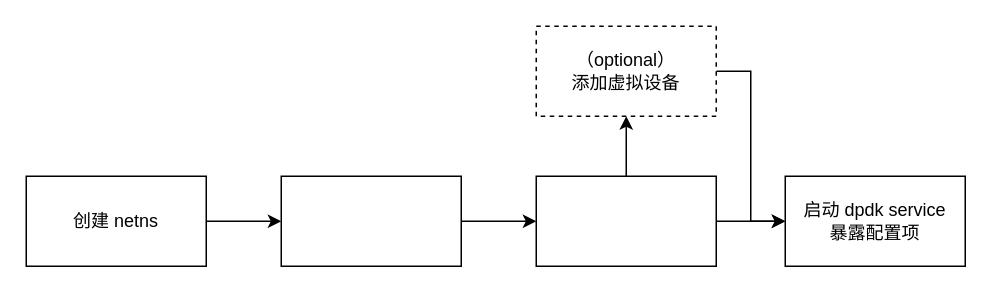
The diagram is 992 pixels wide and 293 high, and some of its shapes have lost their labels. The shapes that lost their labels are listed below. From the top down, each one's centre as x and y in pixels, then its label:
point (370, 220): 准备 dpdk
point (625, 220): 配置路由等网络设置
